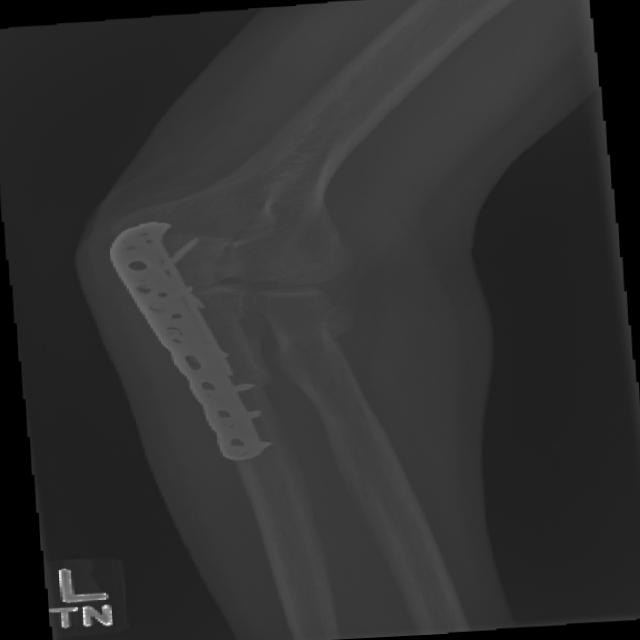elbow positive: (189, 102, 357, 315)
